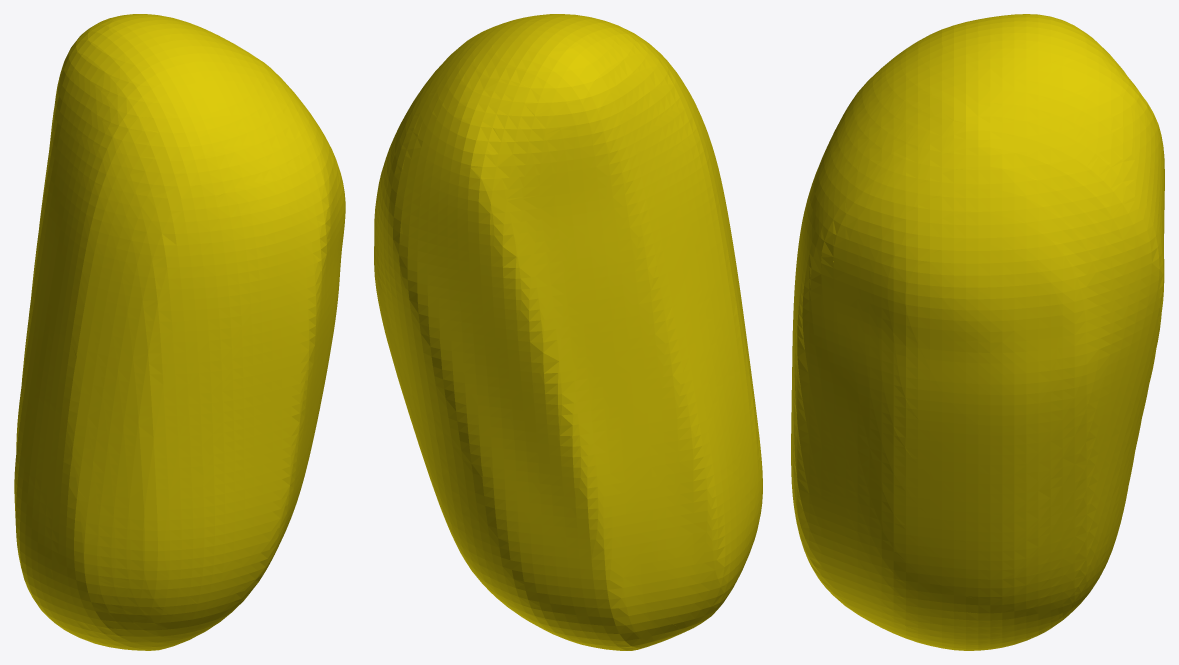
Rendered from hand_part_11.glb.
3 renders of one model, left to right at view 1: azimuth 30°, elevation 25°; view 2: azimuth 150°, elevation 25°; view 3: azimuth 270°, elevation 25°, orthographic. The views are drawn at different scales.
Size of the model in its own units: 0.0184 by 0.0337 by 0.018.
